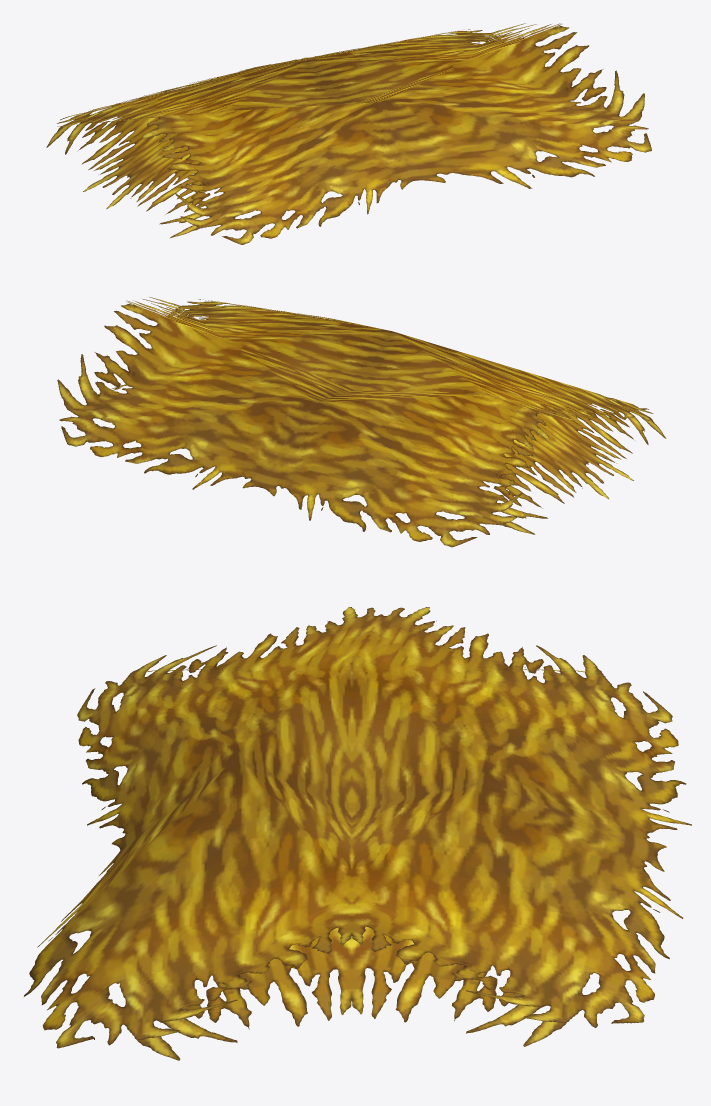
The model's file is shadowfanghaypile01.obj.
3 renders of one model, top to bottom at view 1: azimuth 30°, elevation 25°; view 2: azimuth 150°, elevation 25°; view 3: azimuth 270°, elevation 25°, orthographic. The views are drawn at different scales.
Visible parts, largest first — view 1: shadowfanghaypile01; view 2: shadowfanghaypile01; view 3: shadowfanghaypile01.
Part boxes in pixels (x1,y1,x2,y2): shadowfanghaypile01: (46, 23, 651, 244); shadowfanghaypile01: (57, 297, 666, 547); shadowfanghaypile01: (24, 607, 691, 1060).
Size of the model in its own units: 3.35 by 0.4226 by 2.22.
1 material, 1 textured.
